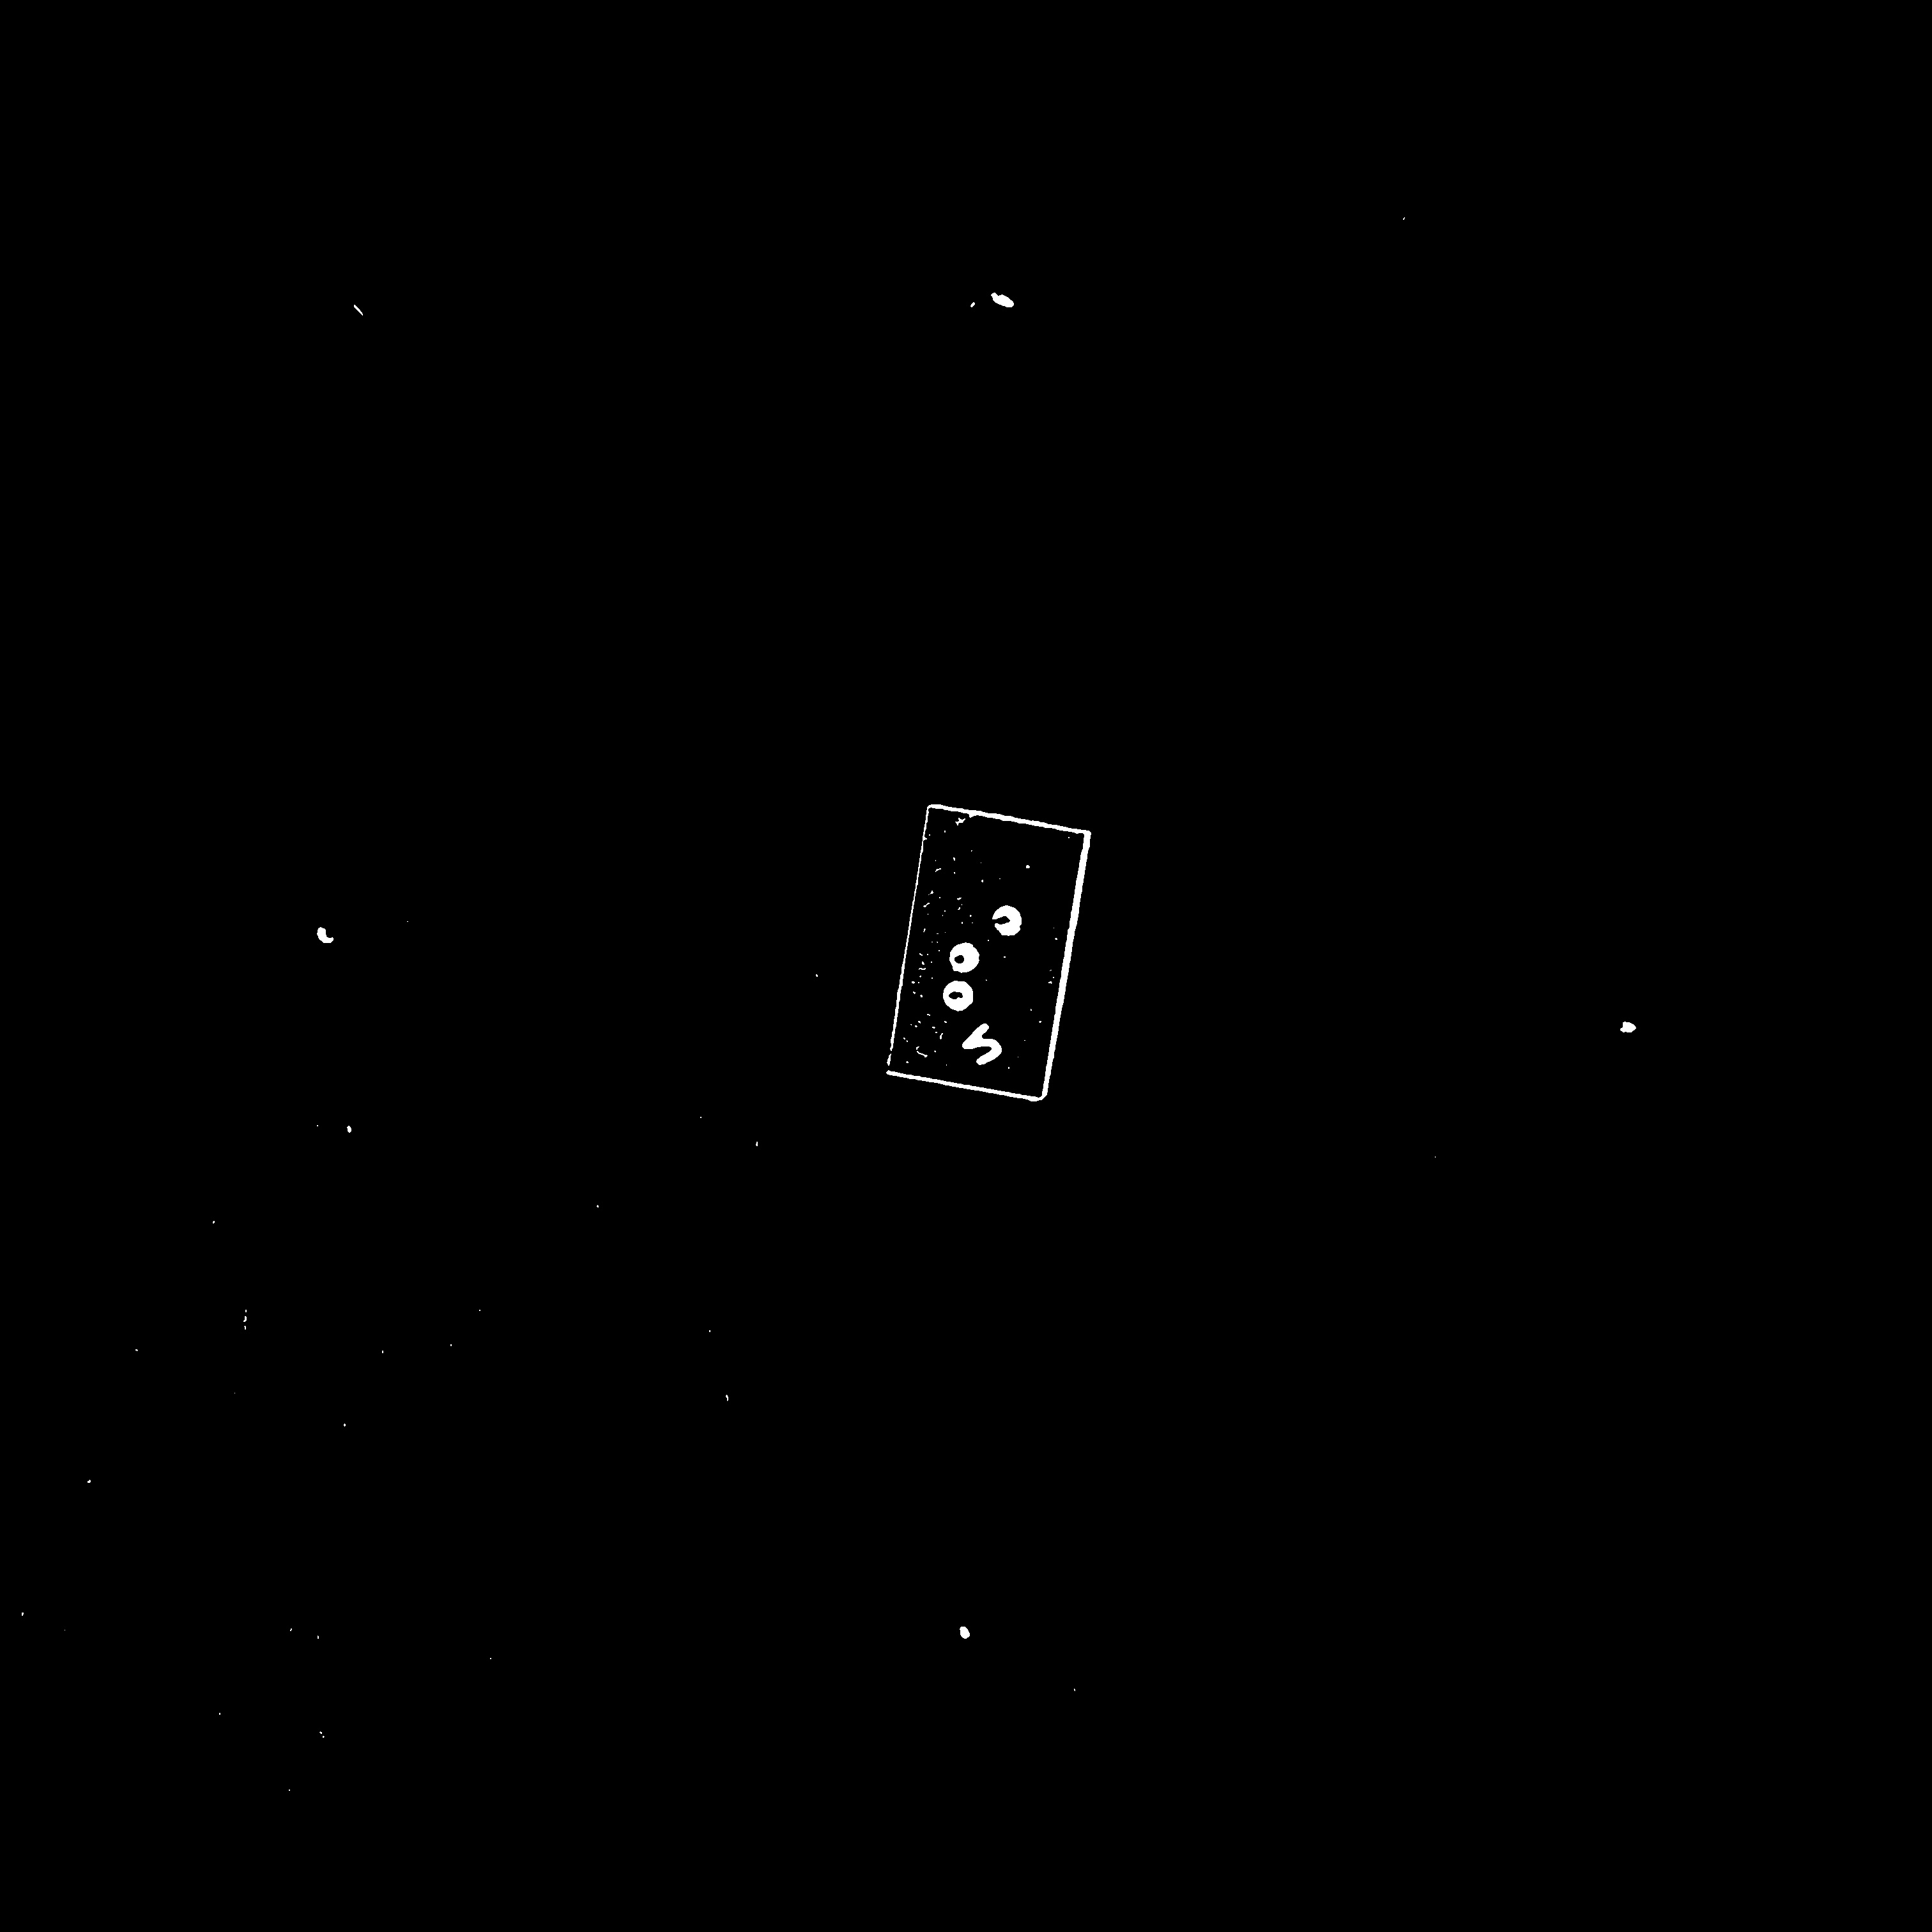s: (940, 883, 1034, 1025)
